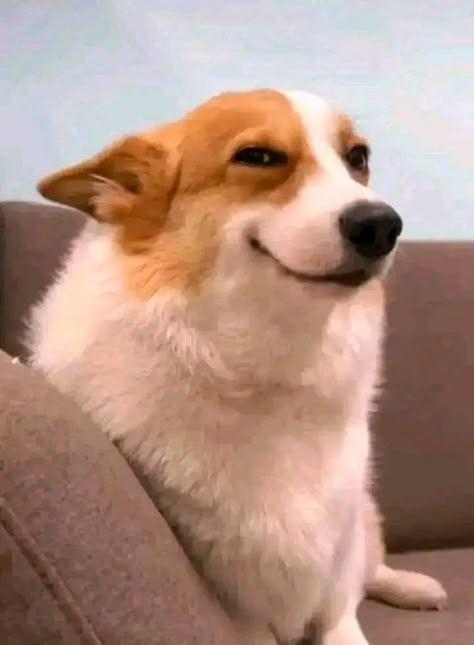adult_dog: (11, 84, 448, 645)
